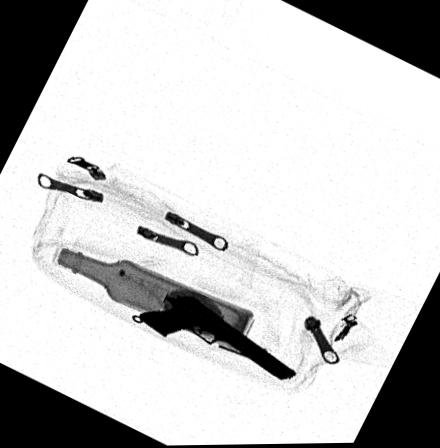Gun: (133, 291, 298, 379)
